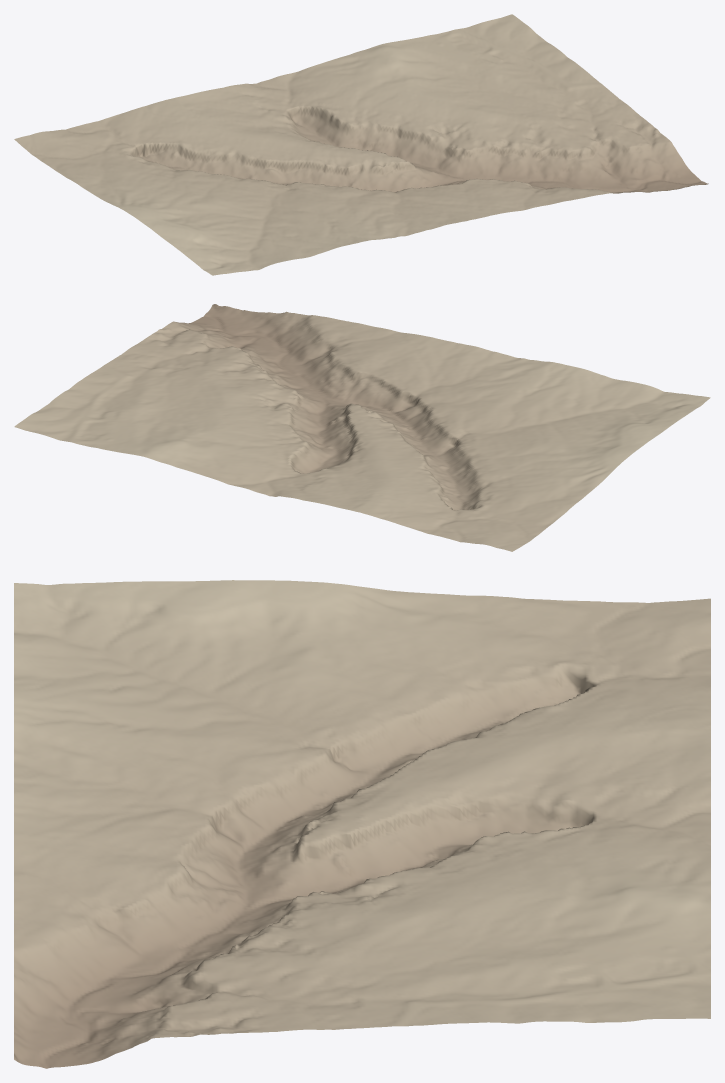
File: hovenweep-little-ruin-canyon-lidar.glb
3 renders of one model, top to bottom at view 1: azimuth 30°, elevation 25°; view 2: azimuth 150°, elevation 25°; view 3: azimuth 270°, elevation 25°, orthographic. The views are drawn at different scales.
Parts seen in each view (by area): view 1: Little Ruin Canyon 1m LiDAR Surface; view 2: Little Ruin Canyon 1m LiDAR Surface; view 3: Little Ruin Canyon 1m LiDAR Surface.
Part boxes in pixels (x1,y1,x2,y2): Little Ruin Canyon 1m LiDAR Surface: [14, 14, 708, 275]; Little Ruin Canyon 1m LiDAR Surface: [14, 304, 710, 551]; Little Ruin Canyon 1m LiDAR Surface: [14, 580, 710, 1068].
Bounding box in the file's own units: 747 × 50.88 × 516.
